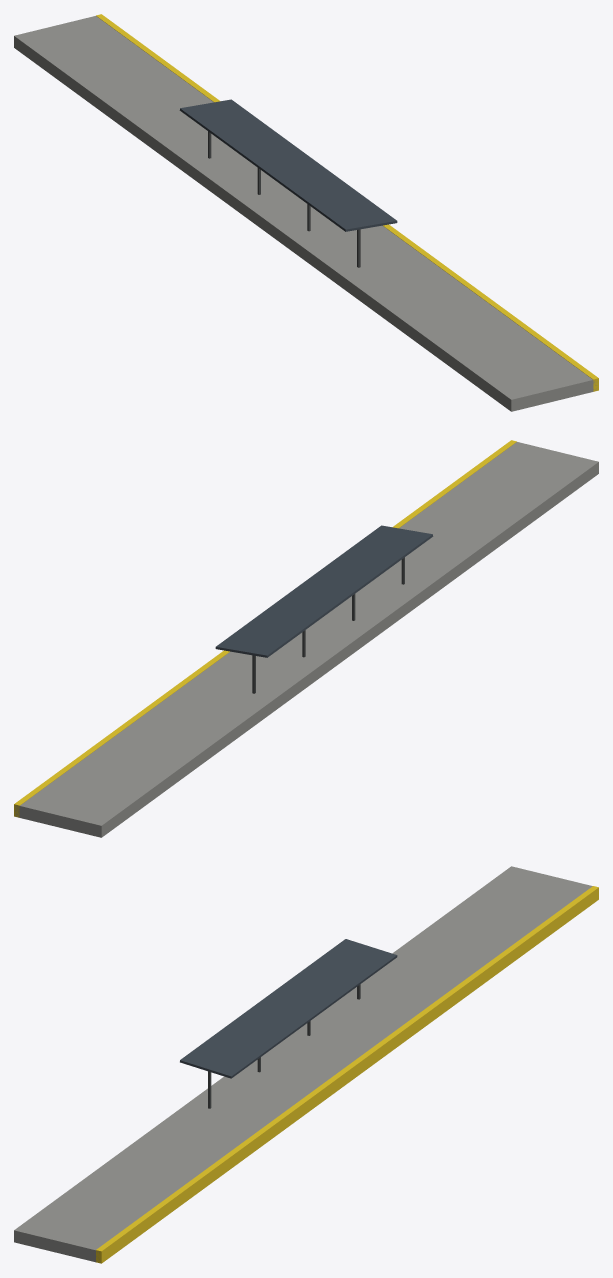
File: RailPlatform.fbx
3 renders of one model, top to bottom at view 1: azimuth 30°, elevation 25°; view 2: azimuth 150°, elevation 25°; view 3: azimuth 330°, elevation 25°, orthographic.
Visible parts, largest first — view 1: Platform, ShelterRoof, Edge; view 2: Platform, ShelterRoof, Edge; view 3: Platform, ShelterRoof, Edge.
Boxes of the visible parts, x1,y1,x2,y2 form: Platform: (14,16,596,411); ShelterRoof: (179,99,397,231); Edge: (96,14,598,391); Platform: (15,442,598,837); ShelterRoof: (215,525,433,657); Edge: (14,440,516,817); Platform: (14,866,592,1262); ShelterRoof: (180,939,397,1078); Edge: (96,886,598,1263).
Bounding box in the file's own units: 610 × 6000 × 405.
